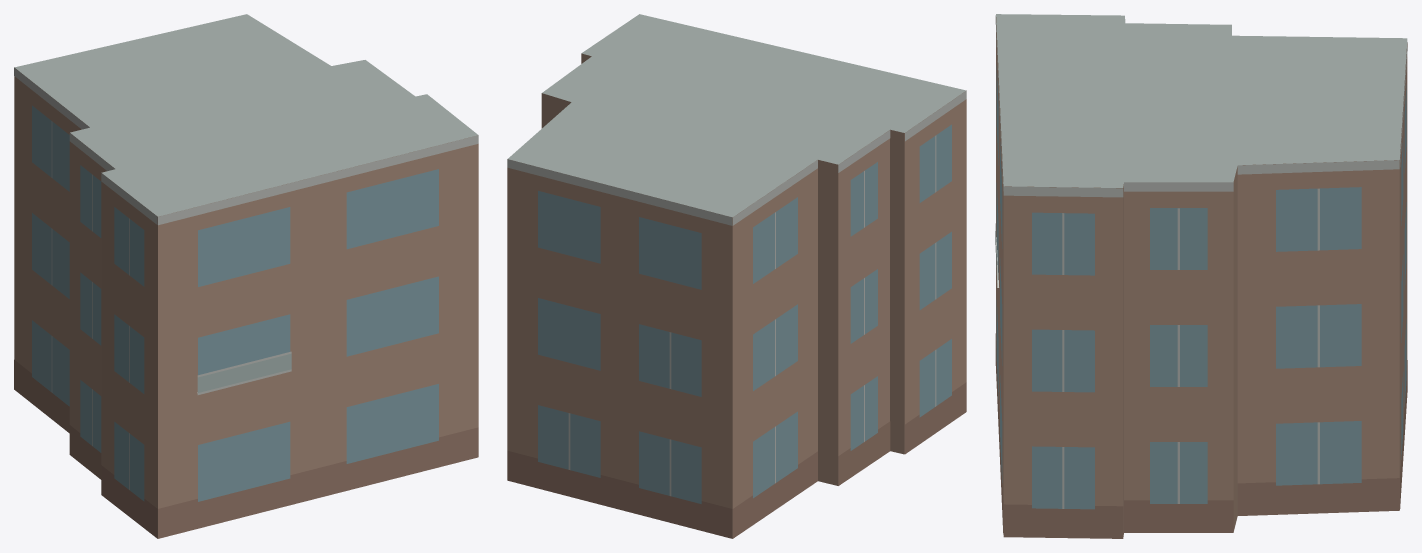
Rendered from survey-upis-32628860.glb.
The picture shows the model from 3 angles, left to right: view 1: azimuth 30°, elevation 25°; view 2: azimuth 150°, elevation 25°; view 3: azimuth 270°, elevation 25°; orthographic projection. The views are drawn at different scales.
Visible parts, largest first — view 1: survey-upis-32628860.tmp; view 2: survey-upis-32628860.tmp; view 3: survey-upis-32628860.tmp.
Boxes of the visible parts, left/top/right/bottom form: survey-upis-32628860.tmp: left=14, top=14, right=478, bottom=538; survey-upis-32628860.tmp: left=507, top=14, right=966, bottom=538; survey-upis-32628860.tmp: left=995, top=14, right=1407, bottom=538.
Bounding box in the file's own units: 9.75 × 9.15 × 9.75.
